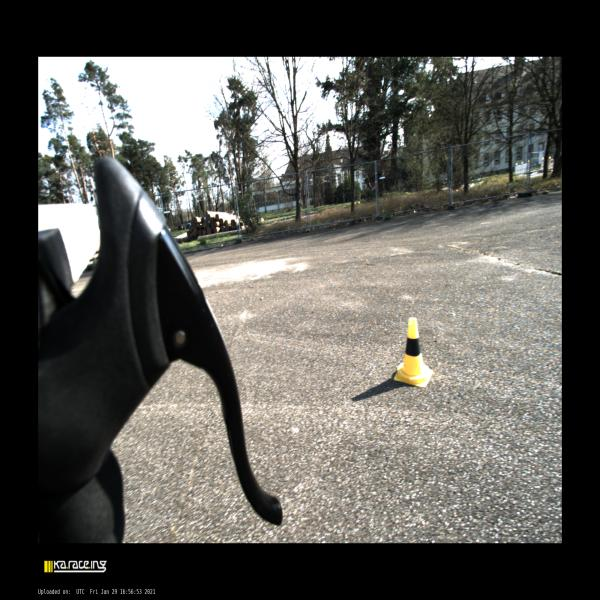yellow_cone: (393, 318, 433, 389)
